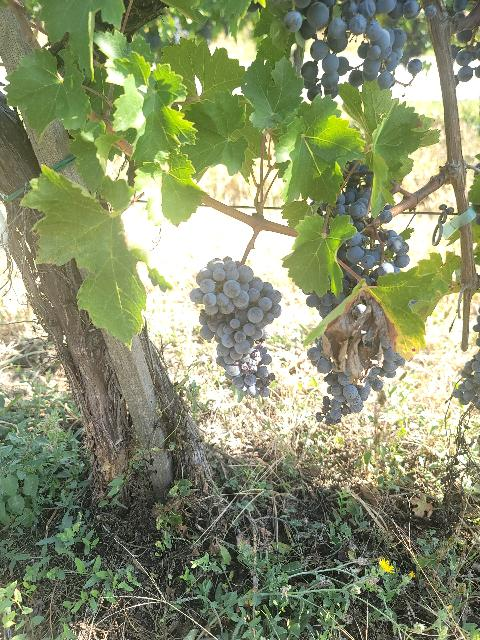grapes: (190, 256, 281, 398), (285, 0, 349, 100), (349, 0, 419, 90), (338, 230, 410, 285)
